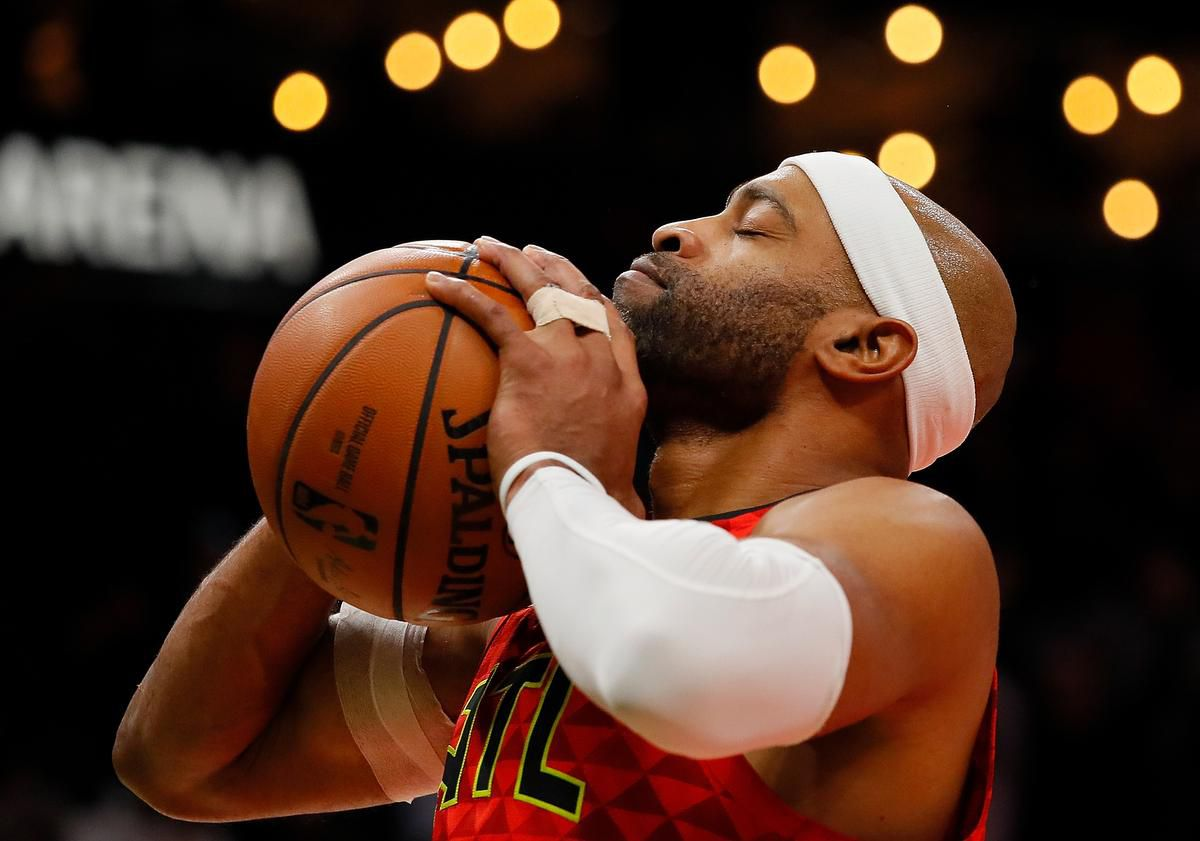Basketball: (243, 234, 528, 626)
